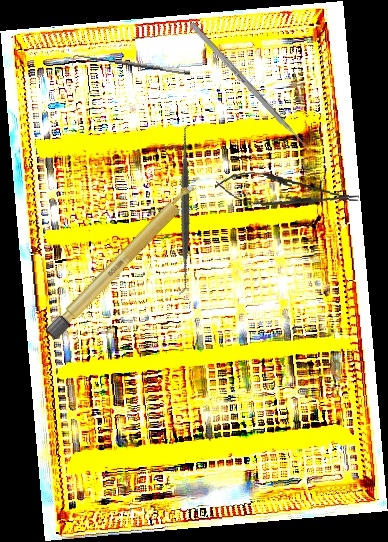Hook Surgical: (71, 50, 191, 85)
Needle Holder: (213, 167, 361, 217)
Pusher: (189, 21, 319, 161)
Scalpel Handle: (44, 178, 202, 342)
Spatula Surgical: (98, 122, 272, 297)
